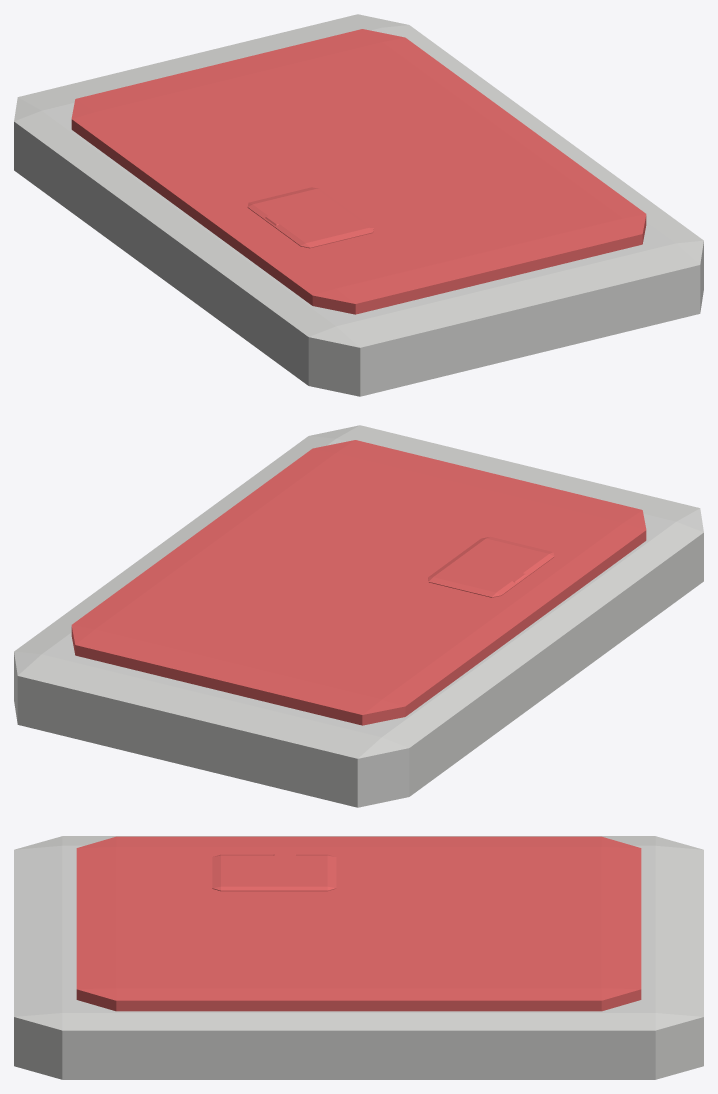
Rendered from b16_pizza_slice_in_triangle_tray.glb.
3 renders of one model, top to bottom at view 1: azimuth 30°, elevation 25°; view 2: azimuth 150°, elevation 25°; view 3: azimuth 270°, elevation 25°, orthographic.
Visible parts, largest first — view 1: b16_pizza_slice_in_triangle_tray; view 2: b16_pizza_slice_in_triangle_tray; view 3: b16_pizza_slice_in_triangle_tray.
Boxes of the visible parts, <box> form: b16_pizza_slice_in_triangle_tray: <box>14,14,703,396</box>; b16_pizza_slice_in_triangle_tray: <box>14,425,703,807</box>; b16_pizza_slice_in_triangle_tray: <box>14,836,703,1079</box>.
Size of the model in its own units: 0.17 by 0.029 by 0.255.
